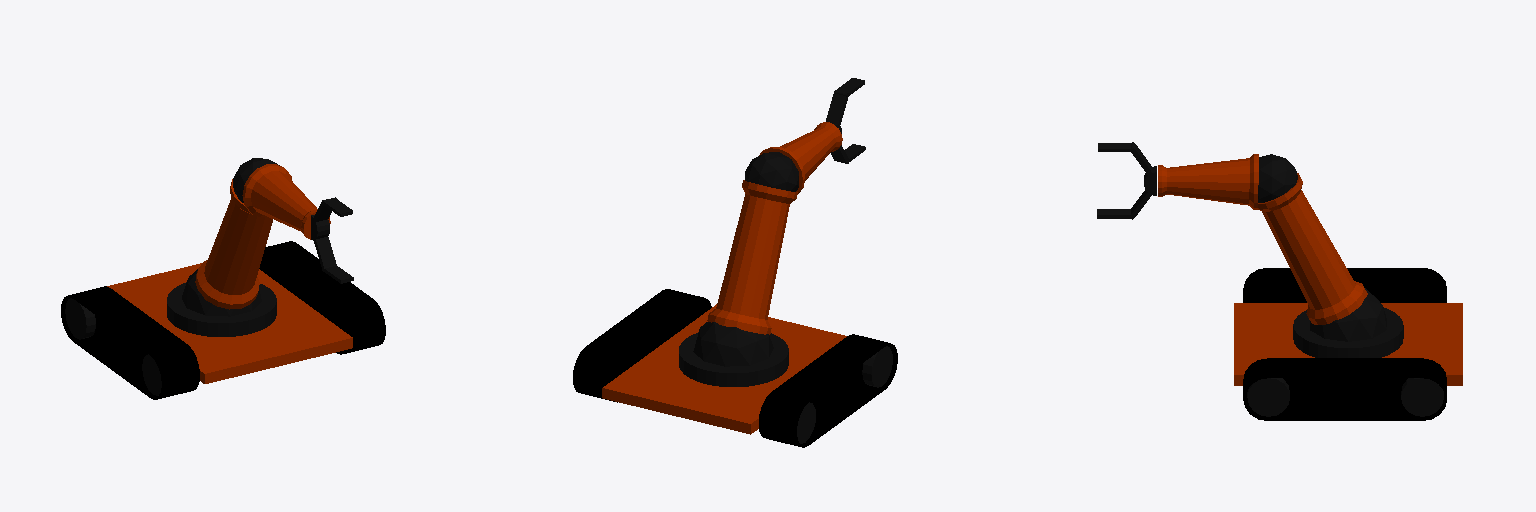
File: robot_idle.obj
3 views of the same model, side by side, from view 1: azimuth 30°, elevation 25°; view 2: azimuth 150°, elevation 25°; view 3: azimuth 270°, elevation 25° (orthographic).
Parts seen in each view (by area): view 1: Cube.001, Cylinder.002_Cylinder.011, Cylinder.001, Cylinder.003_Cylinder.004, Cube, Cylinder.004_Cylinder.005, Cylinder.011_Cylinder.010, Cylinder.010_Cylinder.009; view 2: Cube.001, Cylinder.002_Cylinder.011, Cylinder.003_Cylinder.004, Cylinder.001, Cube, Cylinder.004_Cylinder.005, Cylinder.010_Cylinder.009, Cylinder.011_Cylinder.010; view 3: Cylinder.001, Cube.001, Cylinder.003_Cylinder.004, Cube, Cylinder.002_Cylinder.011, Cylinder.004_Cylinder.005, Cylinder.012, Cylinder.010_Cylinder.009.
Boxes of the visible parts, x1,y1,x2,y2 form: Cube.001: [107, 263, 352, 383]; Cylinder.002_Cylinder.011: [61, 286, 199, 399]; Cylinder.001: [259, 241, 385, 354]; Cylinder.003_Cylinder.004: [195, 179, 272, 309]; Cube: [167, 269, 276, 336]; Cylinder.004_Cylinder.005: [242, 164, 330, 239]; Cylinder.011_Cylinder.010: [65, 298, 161, 395]; Cylinder.010_Cylinder.009: [233, 158, 279, 202]; Cube.001: [602, 304, 846, 434]; Cylinder.002_Cylinder.011: [759, 334, 897, 447]; Cylinder.003_Cylinder.004: [707, 180, 797, 334]; Cylinder.001: [573, 289, 711, 402]; Cube: [679, 322, 788, 386]; Cylinder.004_Cylinder.005: [759, 122, 842, 193]; Cylinder.010_Cylinder.009: [745, 152, 798, 191]; Cylinder.011_Cylinder.010: [797, 346, 892, 443]; Cylinder.001: [1243, 358, 1446, 420]; Cube.001: [1234, 303, 1462, 385]; Cylinder.003_Cylinder.004: [1258, 173, 1367, 324]; Cube: [1293, 288, 1403, 357]; Cylinder.002_Cylinder.011: [1243, 268, 1446, 302]; Cylinder.004_Cylinder.005: [1158, 154, 1258, 209]; Cylinder.012: [1247, 378, 1443, 416]; Cylinder.010_Cylinder.009: [1258, 154, 1297, 202].
Size of the model in its own units: 0.7957 by 0.7538 by 1.13.